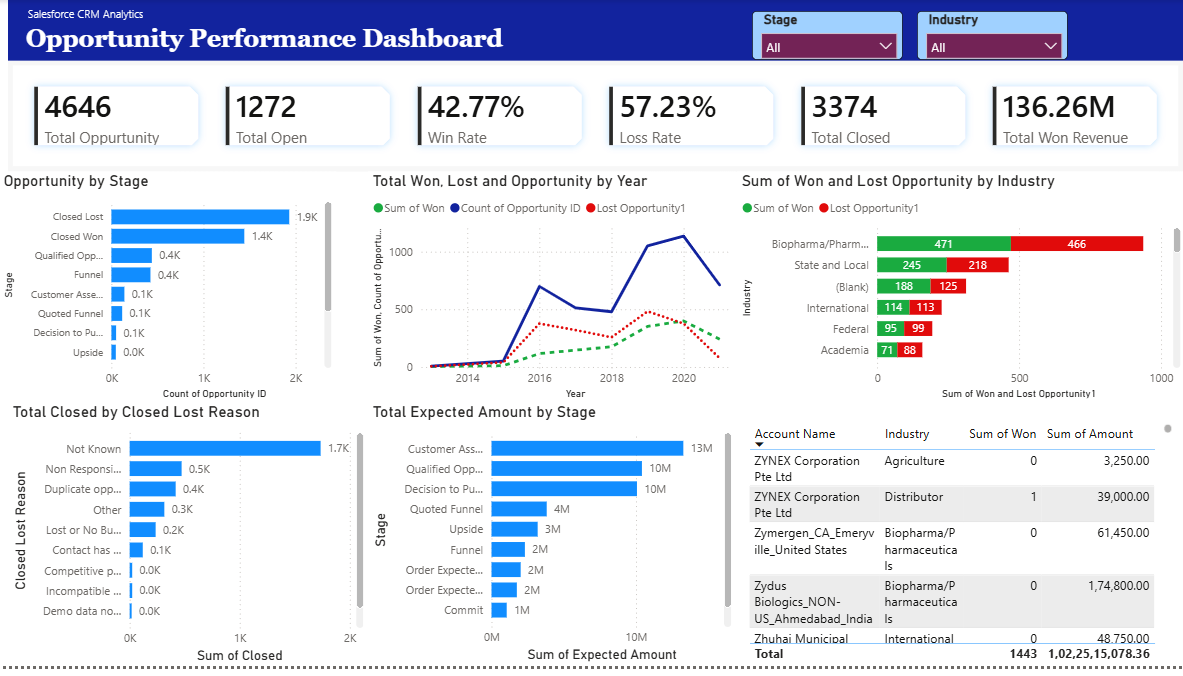

Layout of this report page (visuals, bound fields, positions):
{"tool":"powerbi","page":{"name":"Opportunity","canvas":[1280,720],"ordinal":1},"visuals":[{"type":"textbox","box":[9.7,0,1271.1,66.4],"z":0},{"type":"cardVisual","fields":{"Data":["CountNonNull(Opportunity Table1.Opportunity ID)","Opportunity Table1.Open1","Opportunity Table1.Win Rate1","Opportunity Table1.Loss Rate1","Sum(Opportunity Table1.Closed)","Opportunity Table1.Total Won Revenue1"]},"box":[9.7,66.4,1271.1,119.8],"z":1000},{"type":"clusteredBarChart","title":" Opportunity by Stage","fields":{"Category":["Opportunity Table1.Stage"],"Y":["CountNonNull(Opportunity Table1.Opportunity ID)"]},"box":[0,186.4,364,249.7],"z":2000},{"type":"clusteredBarChart","title":"Total Closed by Closed Lost Reason","fields":{"Category":["Opportunity Table1.Closed Lost Reason"],"Y":["Sum(Opportunity Table1.Closed)"]},"box":[9.7,435.6,388.6,285],"z":3000},{"type":"lineChart","title":" Total Won, Lost and Opportunity by Year","fields":{"Category":["Opportunity Table1.Created Date.Variation.Date Hierarchy.Year"],"Y":["Sum(Opportunity Table1.Won)","CountNonNull(Opportunity Table1.Opportunity ID)","Opportunity Table1.Lost Opportunity1"]},"box":[399.1,186.4,397.4,249.7],"z":4000},{"type":"barChart","title":"Sum of Won and Lost Opportunity by Industry","fields":{"Y":["Sum(Opportunity Table1.Won)","Opportunity Table1.Lost Opportunity1"],"Category":["Opportunity Table1.Industry"]},"box":[796.5,186.4,483.5,249.7],"z":5000},{"type":"tableEx","fields":{"Values":["Account.Account Name","Opportunity Table1.Industry","Sum(Opportunity Table1.Won)","Sum(Opportunity Table1.Amount)"]},"box":[804.8,453.4,466.3,267.2],"z":6000},{"type":"barChart","title":"Total Expected Amount by Stage","fields":{"Category":["Opportunity Table1.Stage"],"Y":["Sum(Opportunity Table1.Expected Amount)"]},"box":[399,436,397,284],"z":7000},{"type":"slicer","fields":{"Values":["Opportunity Table1.Stage"]},"box":[812.6,13.2,162.5,52.9],"z":8000},{"type":"slicer","fields":{"Values":["Opportunity Table1.Industry"]},"box":[990.2,13.2,162.5,52.9],"z":9000}]}

Visuals, with their boxes in screenshot pixels (x1, y1, x2, y2), scaled from the page's 1280x720 canvas onto the 1183x676 screenshot:
textbox: box=[9, 0, 1182, 62]
cardVisual - CountNonNull(Opportunity Table1.Opportunity ID) x Opportunity Table1.Open1: box=[9, 62, 1182, 175]
" Opportunity by Stage" clusteredBarChart: box=[0, 175, 336, 409]
"Total Closed by Closed Lost Reason" clusteredBarChart: box=[9, 409, 368, 675]
" Total Won, Lost and Opportunity by Year" lineChart: box=[369, 175, 736, 409]
"Sum of Won and Lost Opportunity by Industry" barChart: box=[736, 175, 1182, 409]
tableEx - Account.Account Name x Opportunity Table1.Industry: box=[744, 426, 1175, 675]
"Total Expected Amount by Stage" barChart: box=[369, 409, 736, 675]
slicer - Opportunity Table1.Stage: box=[751, 12, 901, 62]
slicer - Opportunity Table1.Industry: box=[915, 12, 1065, 62]
